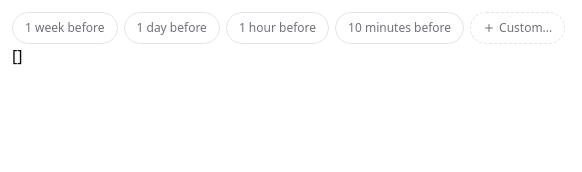
TimerReminderChips › shows the countdown presets as toggles before the date
Step 1. Click the button "1 day before" → (172, 28), box [124, 12, 220, 44]
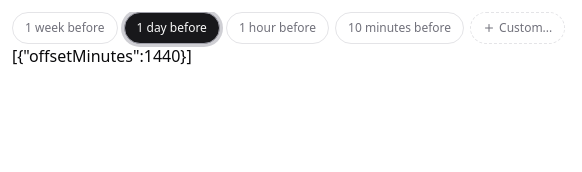
Step 2. Click the button "10 minutes before" → (400, 28), box [335, 12, 464, 44]
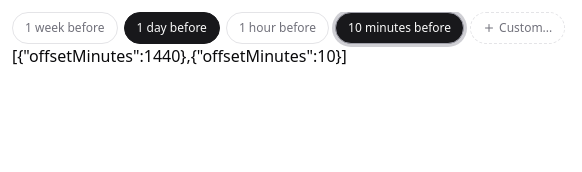
Check: the button "1 day before" is pressed
Step 3. Click the button "1 day before" → (172, 28), box [124, 12, 220, 44]
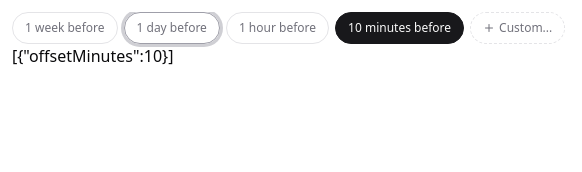
Check: the button "1 day before" is not pressed, box [124, 12, 220, 44]
